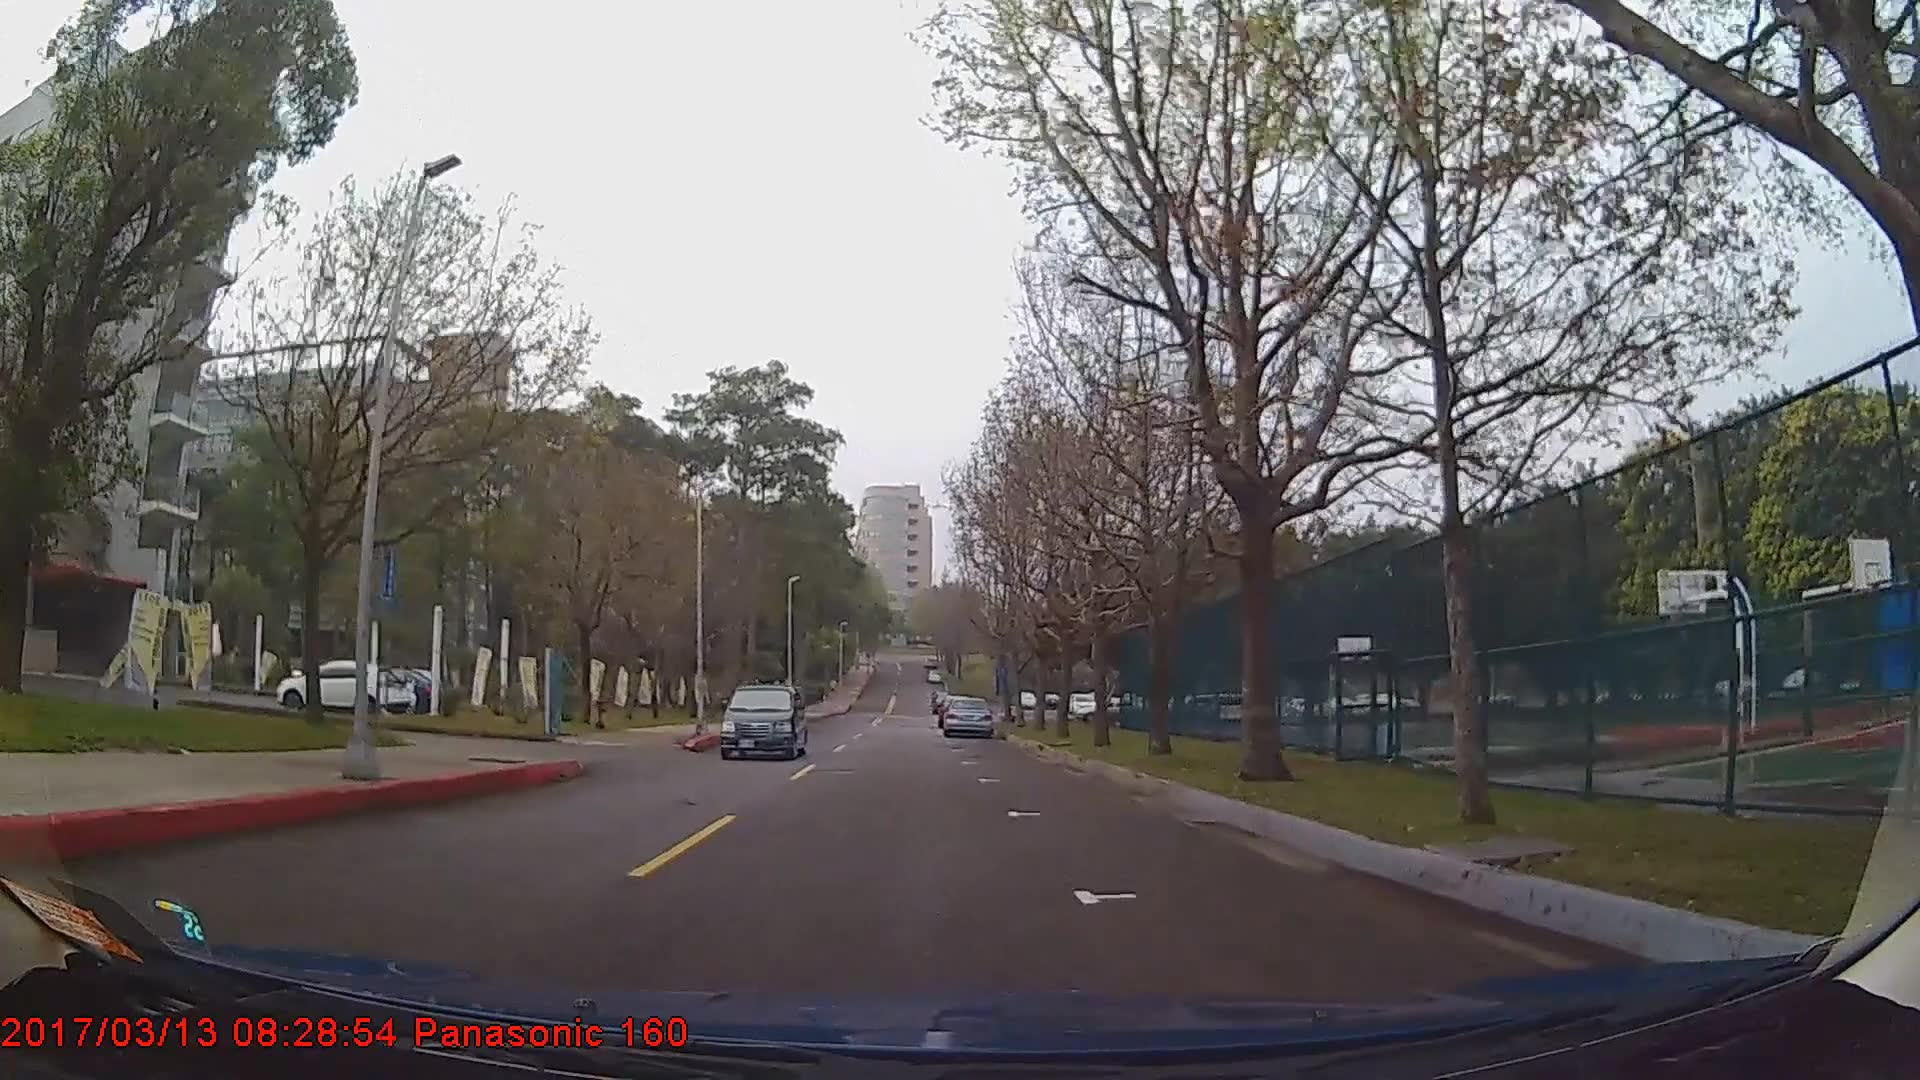vehicle: (274, 655, 407, 713), (717, 683, 808, 761), (940, 696, 992, 740)
